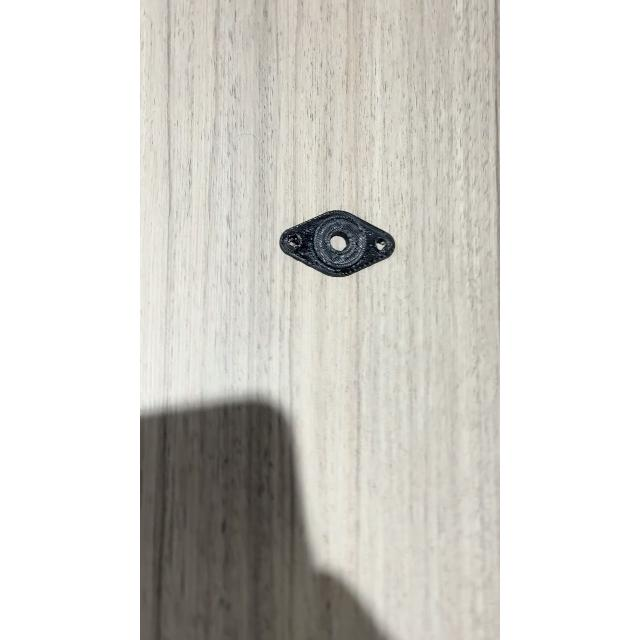Pieza_2: (253, 194, 403, 278)
